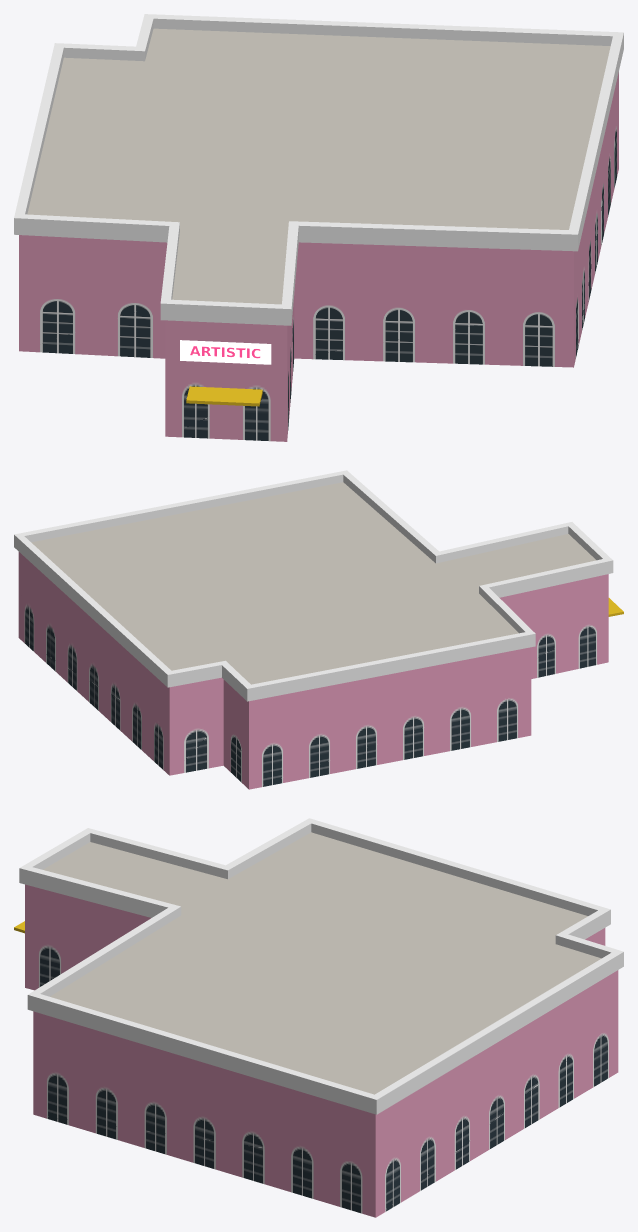
The model's file is harborboutique.glb.
3 views of the same model, one above another, from view 1: azimuth 30°, elevation 25°; view 2: azimuth 150°, elevation 25°; view 3: azimuth 270°, elevation 25° (orthographic). The views are drawn at different scales.
Visible parts, largest first — view 1: harborboutique_lod0; view 2: harborboutique_lod0; view 3: harborboutique_lod0.
Boxes of the visible parts, x1,y1,x2,y2 form: harborboutique_lod0: (14, 14, 623, 441); harborboutique_lod0: (14, 470, 623, 789); harborboutique_lod0: (14, 818, 623, 1217).
Size of what is drawn, in the model's own units: 40.7 by 8.1 by 37.23.
6 materials, 2 textured.
